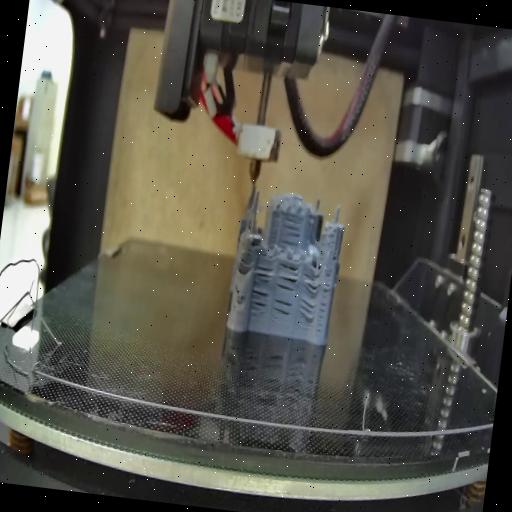cracks: (249, 262, 275, 321), (314, 272, 332, 338), (276, 209, 302, 249), (274, 259, 300, 293), (300, 268, 321, 298), (270, 298, 294, 324), (297, 301, 317, 326), (234, 252, 248, 274), (232, 283, 246, 305), (326, 246, 340, 265)
